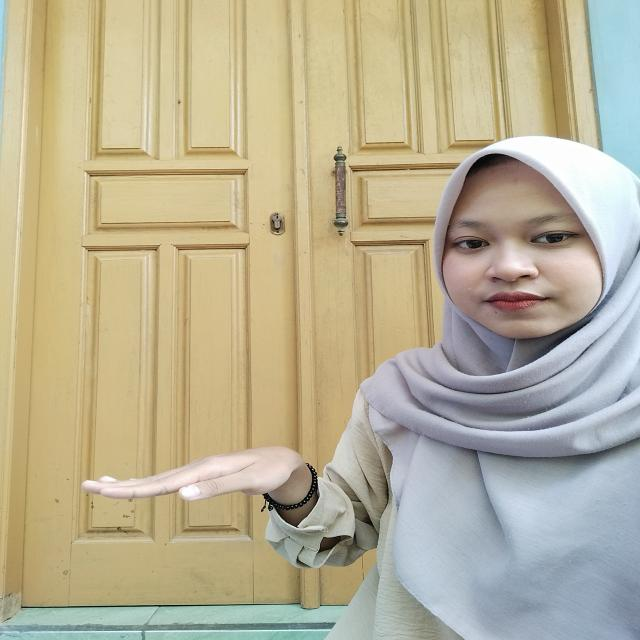adik: (54, 441, 343, 533)
